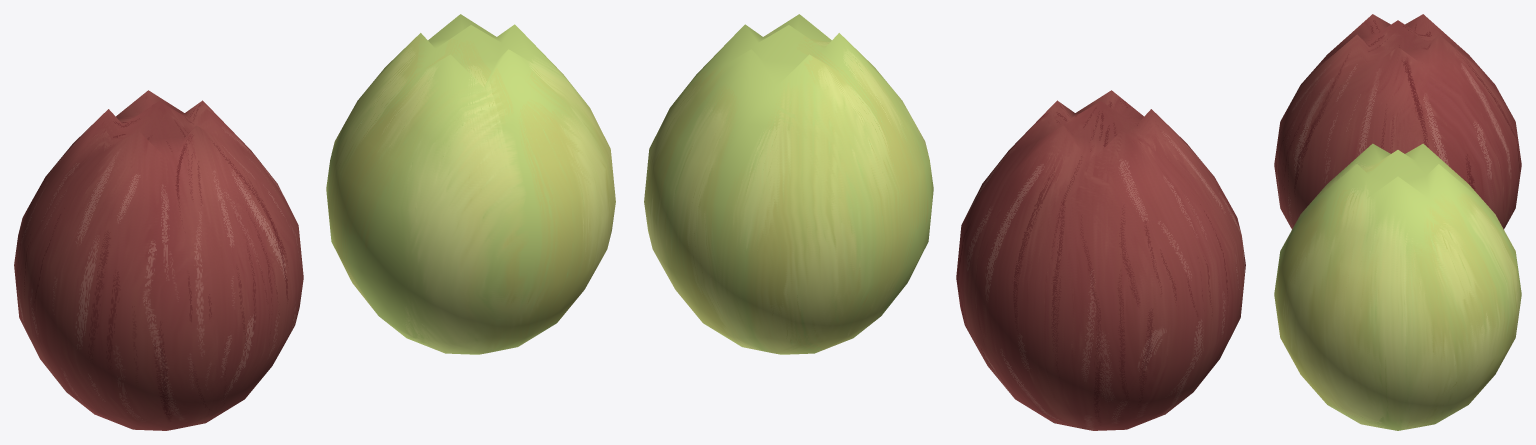
File: coconuts.fbx
3 views of the same model, side by side, from view 1: azimuth 30°, elevation 25°; view 2: azimuth 150°, elevation 25°; view 3: azimuth 270°, elevation 25° (orthographic). The views are drawn at different scales.
Parts seen in each view (by area): view 1: b_coconut, g_coconut; view 2: b_coconut, g_coconut; view 3: g_coconut, b_coconut.
Boxes of the visible parts, x1,y1,x2,y2 form: b_coconut: [14, 90, 303, 430]; g_coconut: [326, 14, 615, 354]; b_coconut: [956, 90, 1245, 430]; g_coconut: [644, 14, 933, 354]; g_coconut: [1274, 143, 1521, 430]; b_coconut: [1274, 14, 1521, 229].
Bounding box in the file's own units: 315 × 170 × 141.
2 materials, 2 textured.
